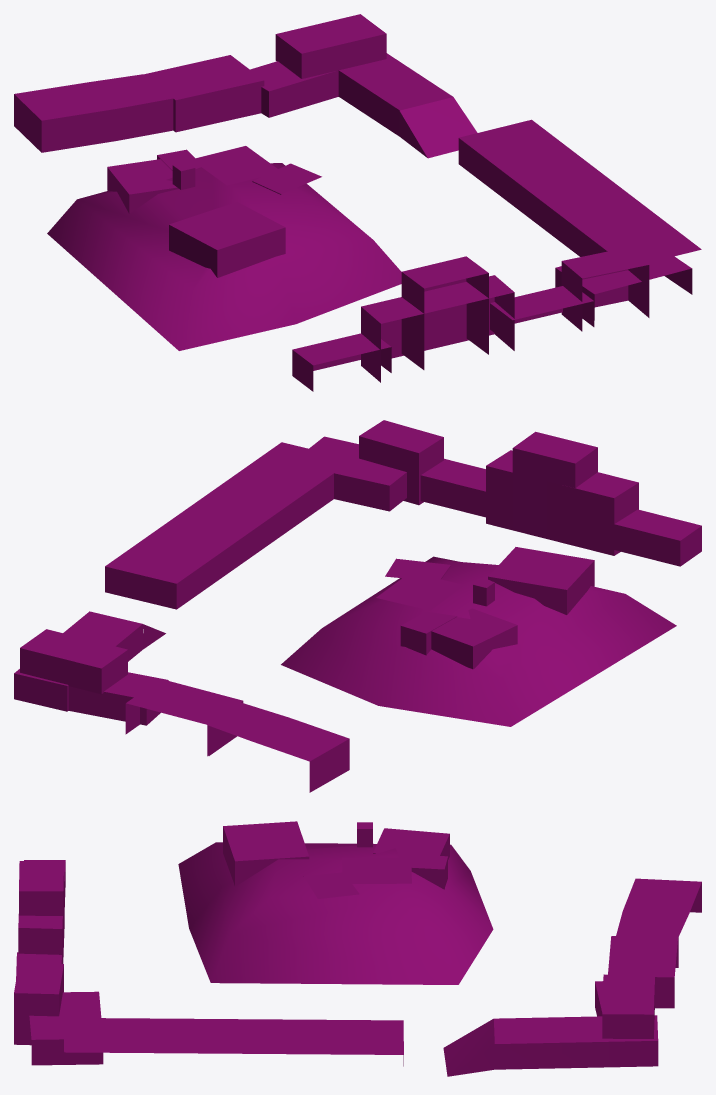
The model's file is collision_camera.X.obj.
The picture shows the model from 3 angles, top to bottom: view 1: azimuth 30°, elevation 25°; view 2: azimuth 150°, elevation 25°; view 3: azimuth 270°, elevation 25°; orthographic projection. The views are drawn at different scales.
Size of the model in its own units: 3531 by 692 by 4634.
